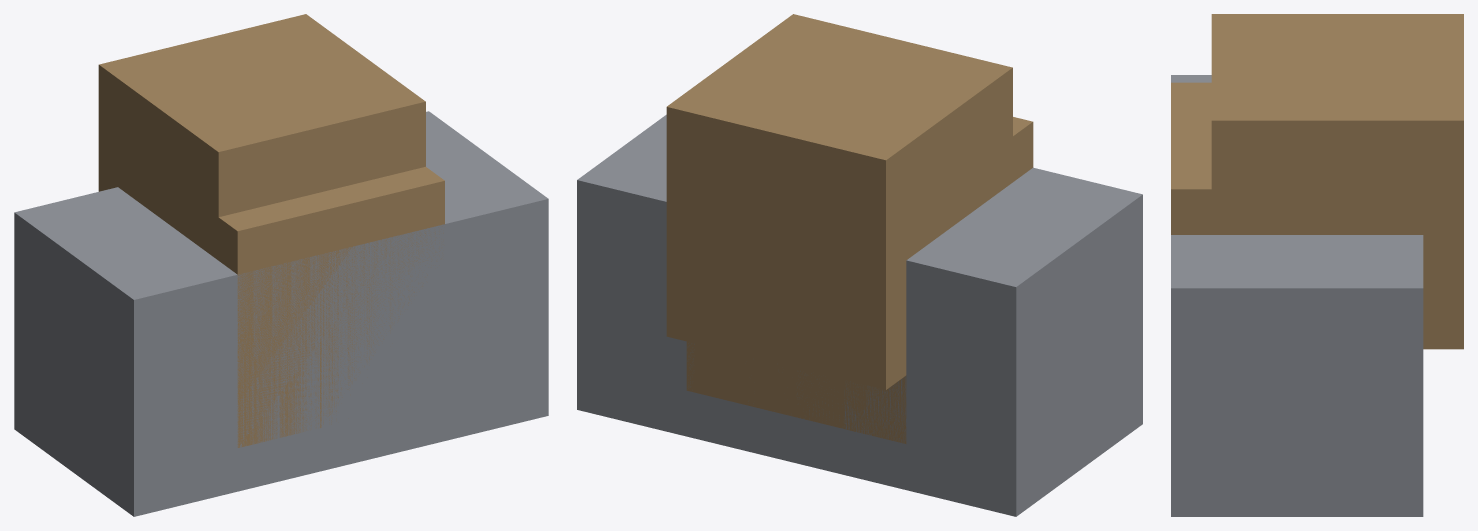
The model's file is inf_bench.glb.
3 renders of one model, left to right at view 1: azimuth 30°, elevation 25°; view 2: azimuth 150°, elevation 25°; view 3: azimuth 270°, elevation 25°, orthographic. The views are drawn at different scales.
Visible parts, largest first — view 1: world; view 2: world; view 3: world.
Part boxes in pixels (box(x1,y1,x2,y2)): world: box(14, 14, 548, 516); world: box(577, 14, 1142, 516); world: box(1171, 14, 1463, 516).
Size of the model in its own units: 2 by 1.5 by 1.16.
